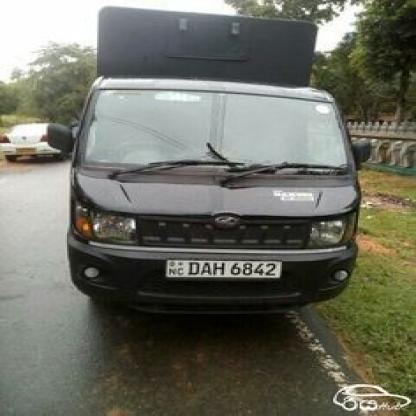Lorry front: (42, 5, 376, 321)
number plate: (167, 256, 287, 281)
